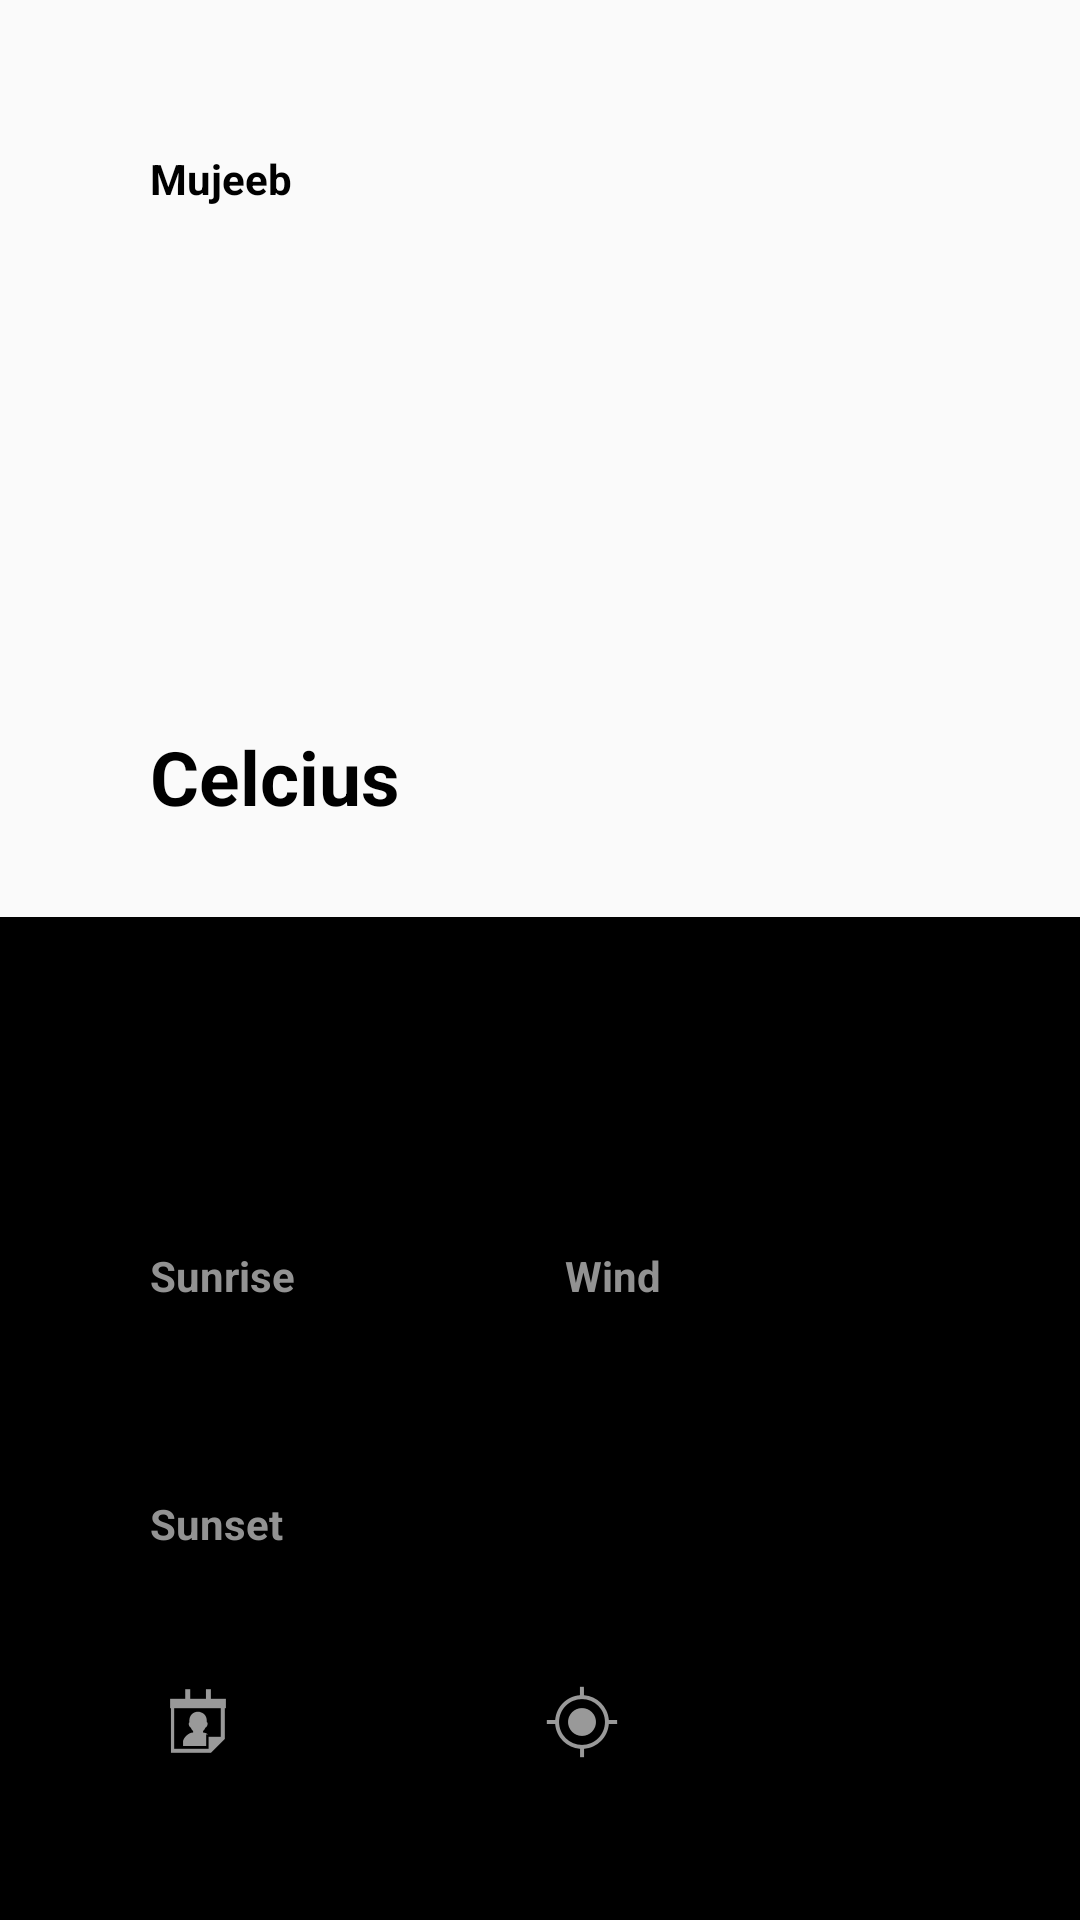

Locate icon controls on the screen. Image size 1080 × 1920, boxes as (x1, y1, x2, y2).
calendar: (170, 1689, 226, 1753)
mylocation: (546, 1686, 618, 1758)
